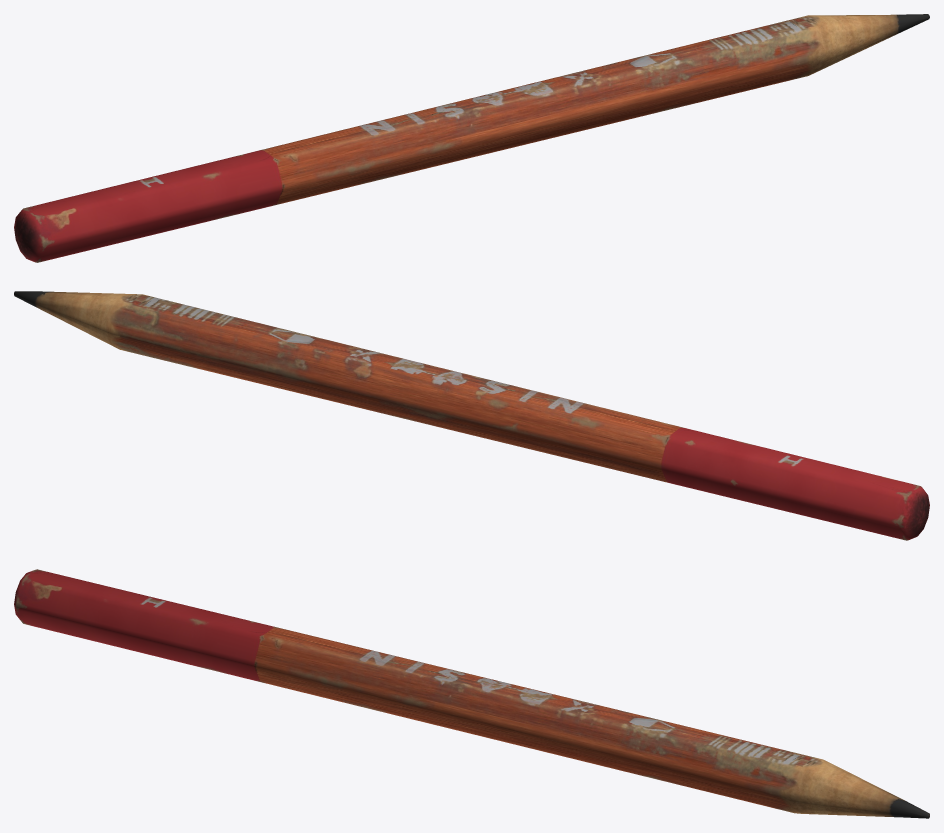
The model's file is pencil_low.glb.
The picture shows the model from 3 angles, top to bottom: view 1: azimuth 30°, elevation 25°; view 2: azimuth 150°, elevation 25°; view 3: azimuth 330°, elevation 25°; orthographic projection.
Parts seen in each view (by area): view 1: Pencil_Low; view 2: Pencil_Low; view 3: Pencil_Low.
Boxes of the visible parts, x1,y1,x2,y2 form: Pencil_Low: [14, 14, 929, 262]; Pencil_Low: [14, 291, 929, 540]; Pencil_Low: [14, 569, 929, 818].
Bounding box in the file's own units: 0.1057 × 0.0054 × 0.00594.
1 material, 1 textured.
